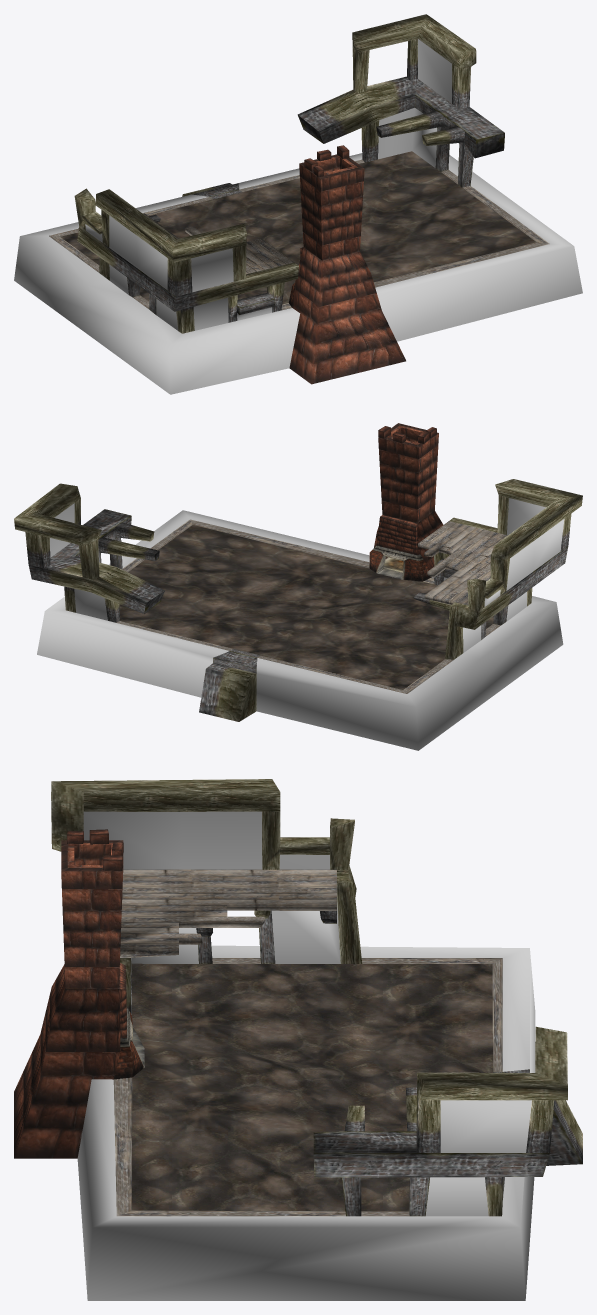
Rendered from huruinedbuildingsmed01.obj.
3 views of the same model, one above another, from view 1: azimuth 30°, elevation 25°; view 2: azimuth 150°, elevation 25°; view 3: azimuth 270°, elevation 25° (orthographic). The views are drawn at different scales.
Parts seen in each view (by area): view 1: Med01; view 2: Med01; view 3: Med01.
Part boxes in pixels (x1,y1,x2,y2): Med01: (14, 14, 582, 394); Med01: (14, 423, 582, 750); Med01: (14, 779, 582, 1300).
Bounding box in the file's own units: 38.42 × 16.51 × 30.33.
